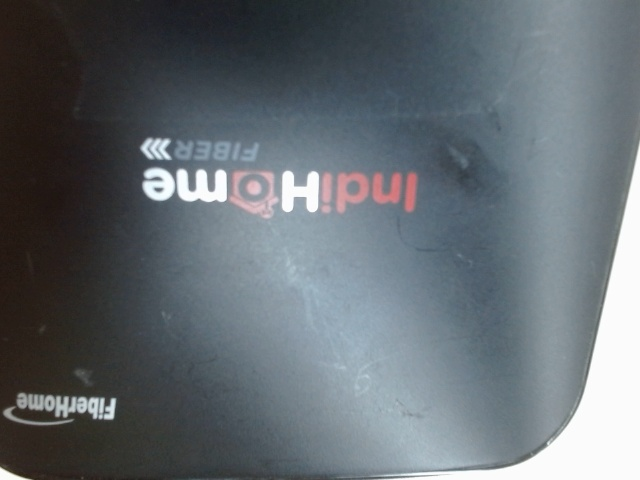AF_IndiHome: (135, 130, 421, 219)
